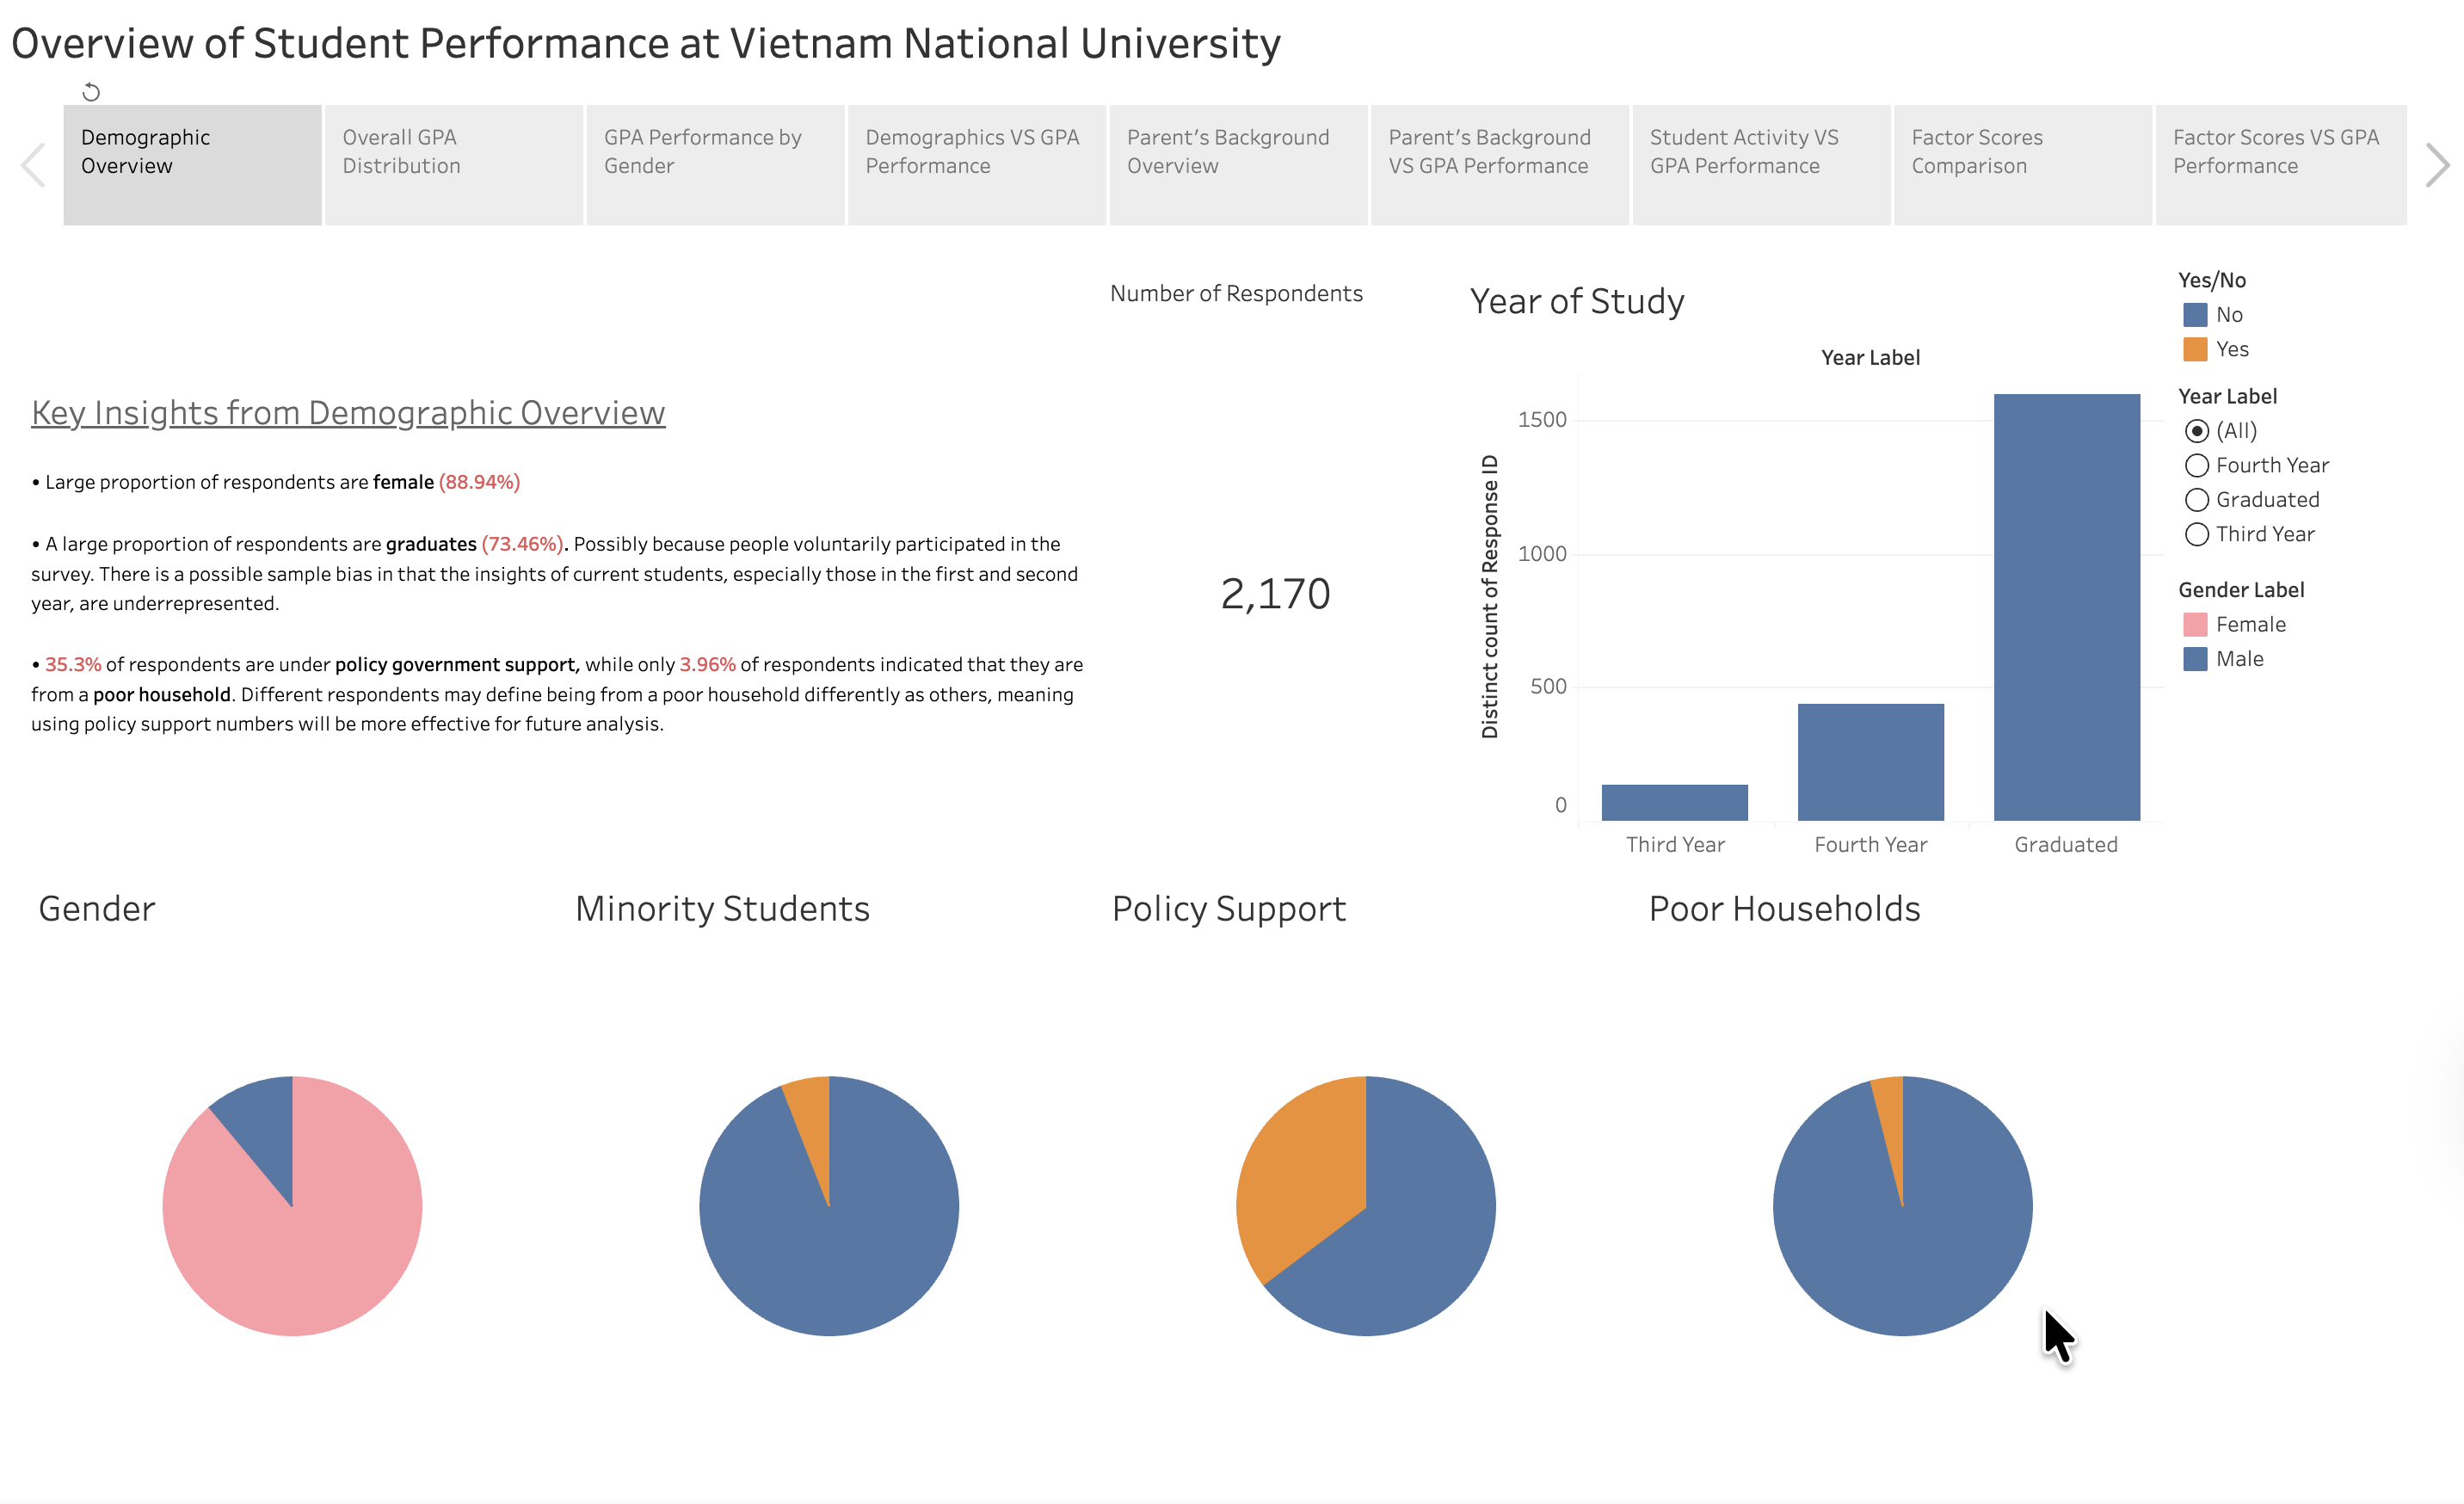

This screenshot's page, from the dashboard's own definition file:
{"tool":"tableau","page":{"name":"Demographic Overview","canvas":[1000,1000],"units":"permille","ordinal":1},"visuals":[{"type":"text","box":[5.7,11.5,437.1,489.2]},{"type":"worksheet","title":"Number of Respondents","mark":"Automatic","box":[442.9,11.5,146.4,488.5]},{"type":"worksheet","title":"Year of Study","mark":"Bar","rows":["Response ID"],"cols":["Calculation_0564434597679106"],"box":[589.3,11.5,291.9,488.5]},{"type":"legend","title":"Poor Households","param":"[federated.05jevnn1tfsfa413nsuds1rxwbeq].[none:Policy Support Label (copy)_05644","box":[881.2,11.5,113.2,94.7]},{"type":"filter","title":"Gender","param":"[federated.05jevnn1tfsfa413nsuds1rxwbeq].[none:Calculation_0564434597679106:nk]","box":[881.2,106.2,113.2,155]},{"type":"legend","title":"Gender","param":"[federated.05jevnn1tfsfa413nsuds1rxwbeq].[none:Calculation_0564434596544513:nk]","box":[881.2,261.1,113.2,94.7]},{"type":"worksheet","title":"Gender","mark":"Pie","box":[5.7,500,218.7,488.5]},{"type":"worksheet","title":"Minority Students","mark":"Pie","box":[224.4,500,218.9,488.5]},{"type":"worksheet","title":"Policy Support","mark":"Pie","box":[443.3,500,218.9,488.5]},{"type":"worksheet","title":"Poor Households","mark":"Pie","box":[662.2,500,219,488.5]}]}

Visuals, with their boxes on the dashboard's canvas, which has no fixed pixel size, in thousandths of its width and height (x1, y1, x2, y2). These are canvas units, not pixel positions in the 2464x1504 screenshot, which may show the page scaled, cropped or inside an application window:
text: select_region(6, 12, 443, 501)
"Number of Respondents" worksheet: select_region(443, 12, 589, 500)
"Year of Study" worksheet (Bar marks): select_region(589, 12, 881, 500)
"Poor Households" legend: select_region(881, 12, 994, 106)
"Gender" filter: select_region(881, 106, 994, 261)
"Gender" legend: select_region(881, 261, 994, 356)
"Gender" worksheet (Pie marks): select_region(6, 500, 224, 988)
"Minority Students" worksheet (Pie marks): select_region(224, 500, 443, 988)
"Policy Support" worksheet (Pie marks): select_region(443, 500, 662, 988)
"Poor Households" worksheet (Pie marks): select_region(662, 500, 881, 988)
